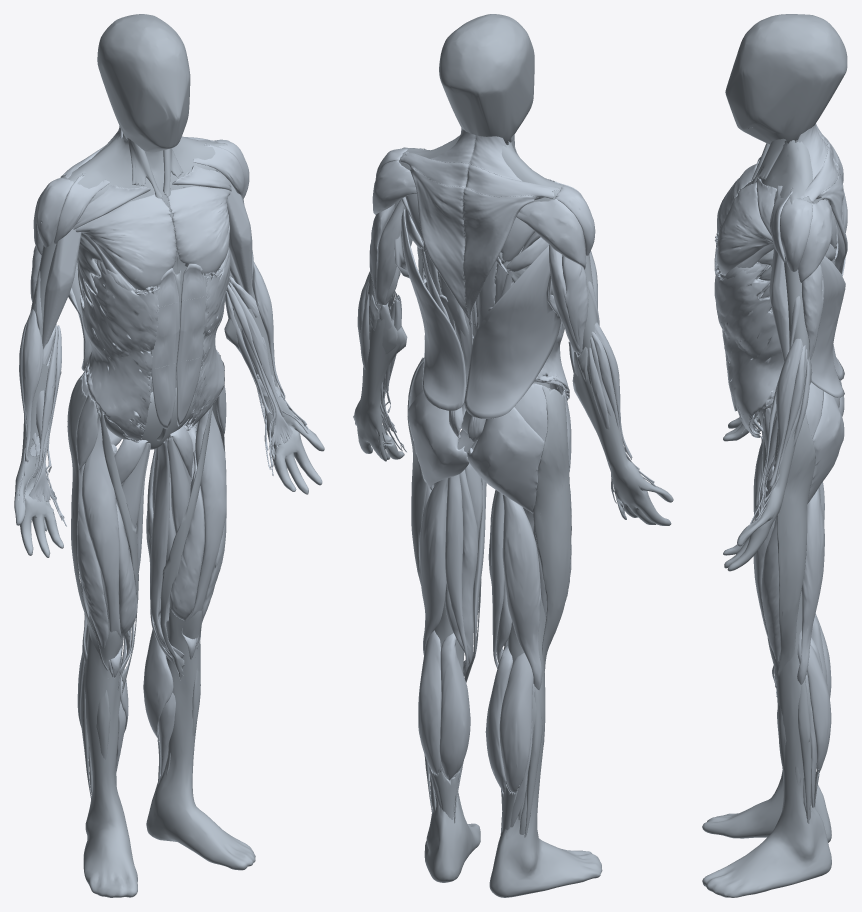
The model's file is anatomy-muscles.glb.
The picture shows the model from 3 angles, left to right: view 1: azimuth 30°, elevation 25°; view 2: azimuth 150°, elevation 25°; view 3: azimuth 270°, elevation 25°; orthographic projection. The views are drawn at different scales.
Parts seen in each view (by area): view 1: Neutral anatomy, quads, obliques, chest, forearms, adductors, abs, biceps, calves, front_delts, side_delts, abductors (+2 smaller); view 2: Neutral anatomy, hamstrings, lats, traps, calves, glutes, triceps, forearms, rear_delts, lower_back, upper_back, adductors (+2 smaller); view 3: Neutral anatomy, obliques, chest, forearms, lats, traps, calves, hamstrings, quads, glutes, side_delts, rear_delts (+4 smaller).
Boxes of the visible parts, x1=… form: Neutral anatomy: x1=14, y1=14, x2=324, y2=897; quads: x1=77, y1=409, x2=226, y2=678; obliques: x1=80, y1=247, x2=230, y2=442; chest: x1=73, y1=165, x2=231, y2=290; forearms: x1=17, y1=261, x2=309, y2=526; adductors: x1=114, y1=425, x2=194, y2=690; abs: x1=151, y1=263, x2=206, y2=429; biceps: x1=42, y1=170, x2=252, y2=348; calves: x1=77, y1=611, x2=175, y2=778; front_delts: x1=54, y1=143, x2=244, y2=243; side_delts: x1=36, y1=139, x2=249, y2=247; abductors: x1=76, y1=371, x2=226, y2=469; Neutral anatomy: x1=353, y1=14, x2=673, y2=897; hamstrings: x1=419, y1=469, x2=542, y2=689; lats: x1=394, y1=209, x2=561, y2=418; traps: x1=400, y1=128, x2=559, y2=324; calves: x1=418, y1=630, x2=534, y2=827; glutes: x1=408, y1=367, x2=547, y2=513; triceps: x1=369, y1=199, x2=588, y2=355; forearms: x1=357, y1=271, x2=656, y2=503; rear_delts: x1=372, y1=159, x2=586, y2=269; lower_back: x1=421, y1=239, x2=513, y2=442; upper_back: x1=401, y1=193, x2=548, y2=272; adductors: x1=433, y1=429, x2=533, y2=672; Neutral anatomy: x1=702, y1=14, x2=847, y2=897; obliques: x1=714, y1=235, x2=784, y2=437; chest: x1=717, y1=157, x2=776, y2=274; forearms: x1=741, y1=338, x2=809, y2=525; lats: x1=810, y1=256, x2=845, y2=397; traps: x1=797, y1=123, x2=847, y2=271; calves: x1=805, y1=613, x2=831, y2=807; hamstrings: x1=797, y1=482, x2=824, y2=684; quads: x1=753, y1=443, x2=780, y2=686; glutes: x1=806, y1=380, x2=844, y2=503; side_delts: x1=780, y1=198, x2=812, y2=271; rear_delts: x1=798, y1=199, x2=832, y2=282.
Size of the model in its own units: 0.6637 by 1.72 by 0.2689.
